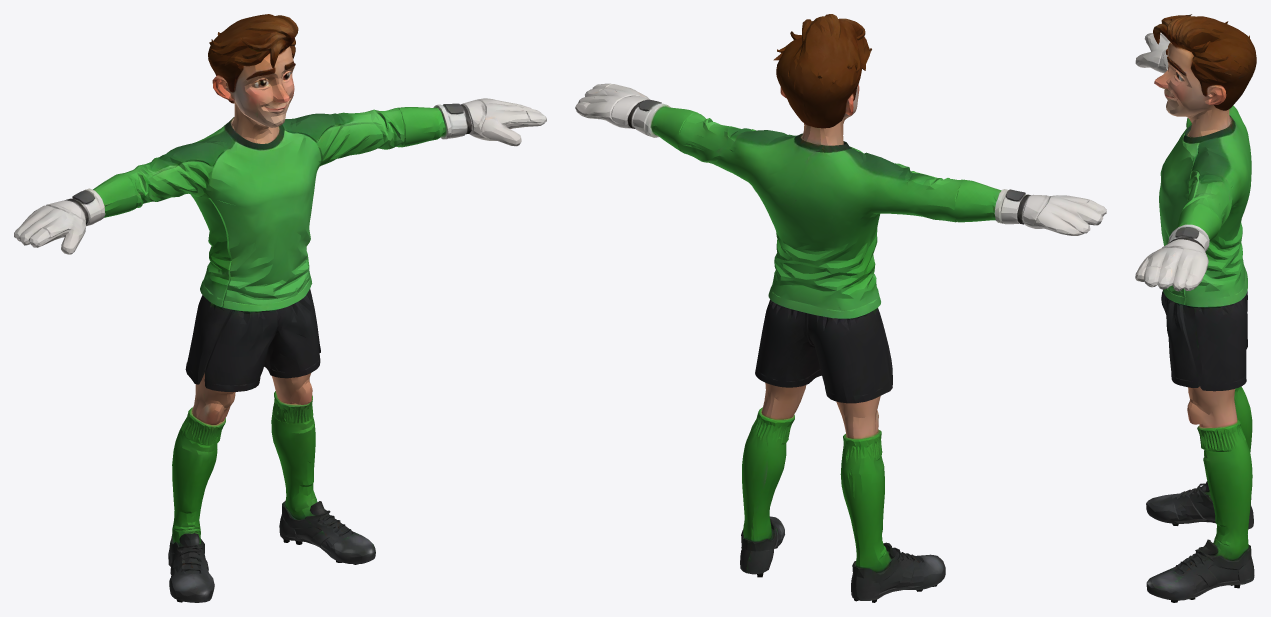
File: keeper.glb
The picture shows the model from 3 angles, left to right: view 1: azimuth 30°, elevation 25°; view 2: azimuth 150°, elevation 25°; view 3: azimuth 270°, elevation 25°; orthographic projection.
Parts seen in each view (by area): view 1: model; view 2: model; view 3: model.
Boxes of the visible parts, <box> form: model: <box>14,14,546,602</box>; model: <box>575,14,1106,602</box>; model: <box>1135,14,1256,602</box>.
Bounding box in the file's own units: 1.86 × 1.89 × 0.3831.
Materials: 1 (1 with a texture image).
